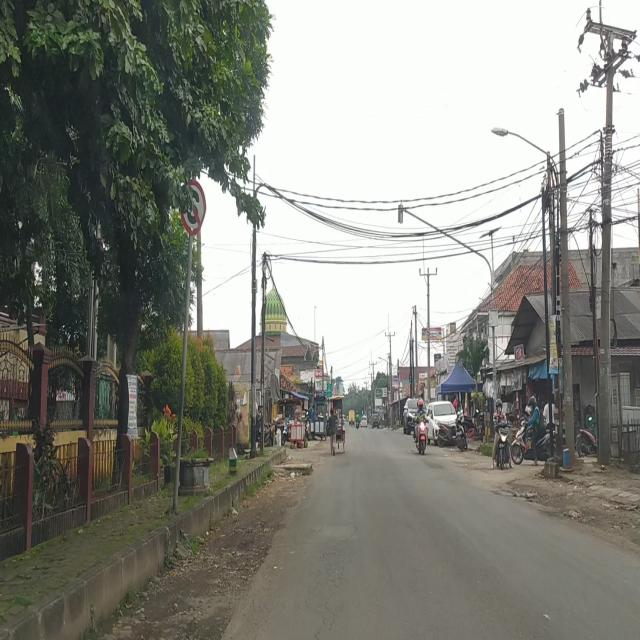Drain Hole: (304, 545, 354, 632)
